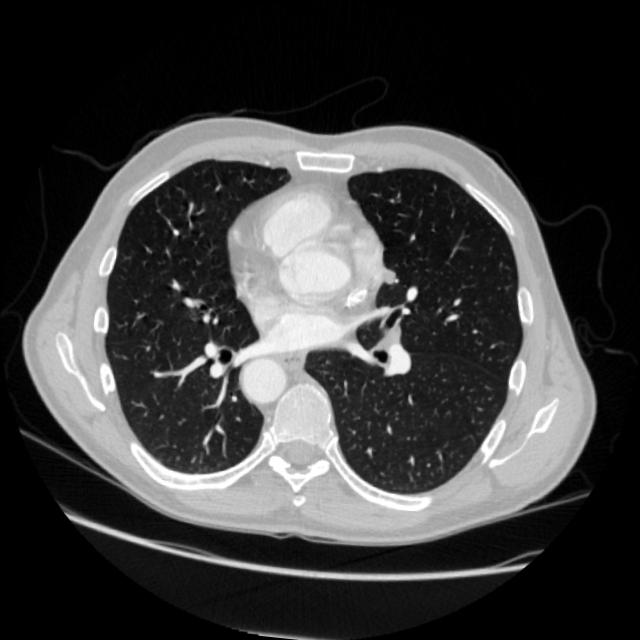nodule: (374, 258, 406, 291)
